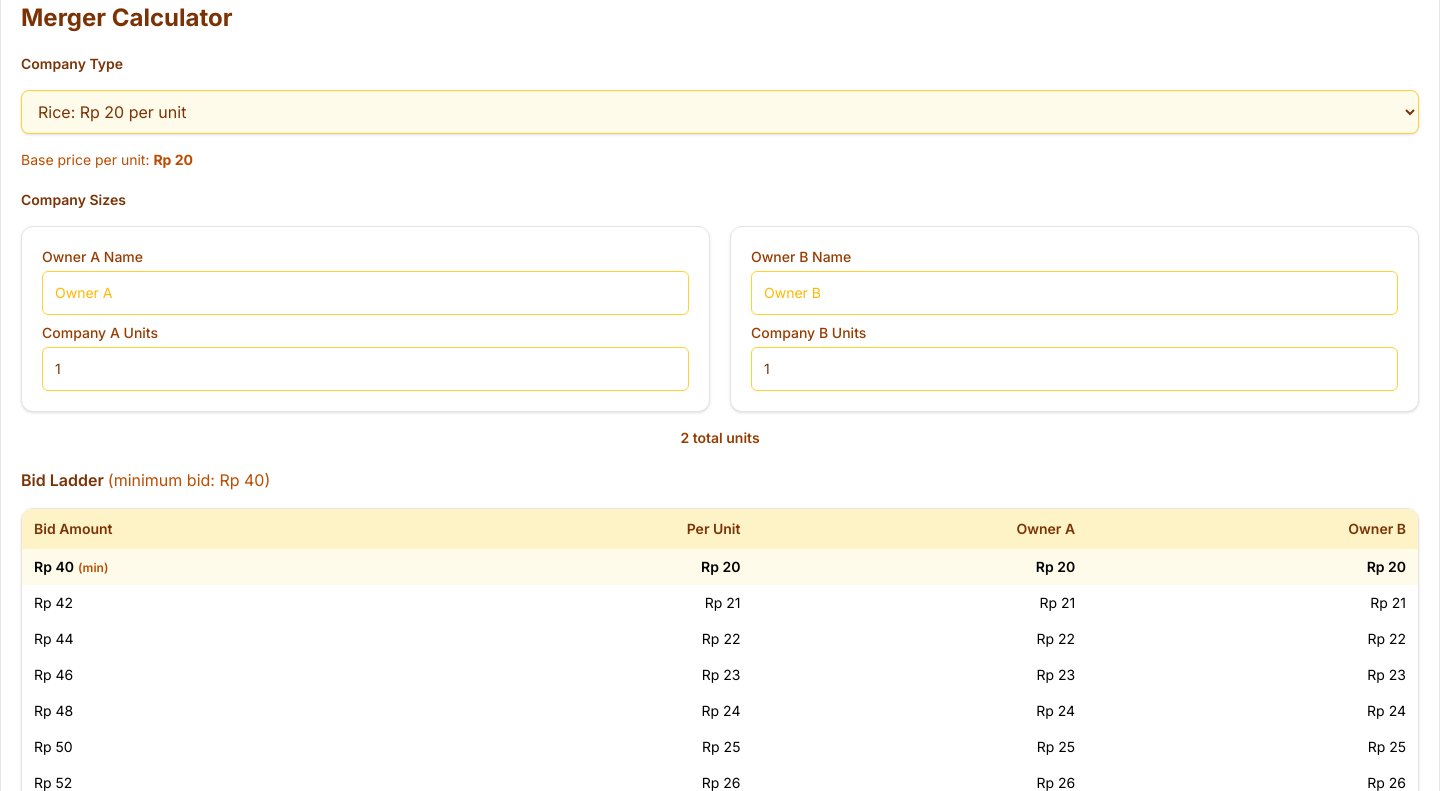
it: MergerCalculator › bid selection and payment breakdown › shows payment breakdown when a bid row is clicked
The width and height of the screenshot is (1440, 791).
Click the row "Rp 40(min) Rp 20 Rp 20 Rp 20". click: (720, 567)
box: [22,549,1418,585]
(page scrolled)
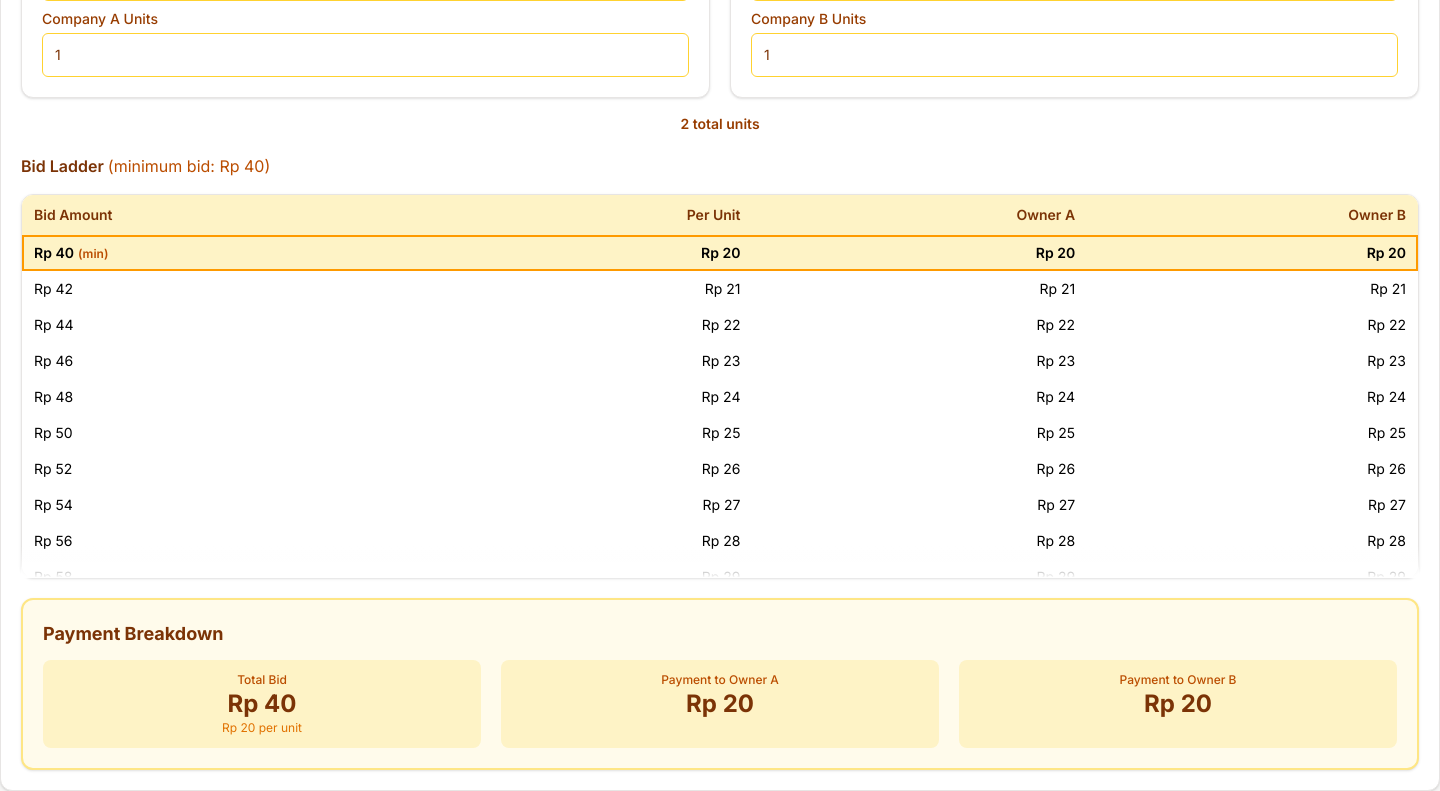
Expected: the element "Payment Breakdown" is shown, [21,598,1419,770]
